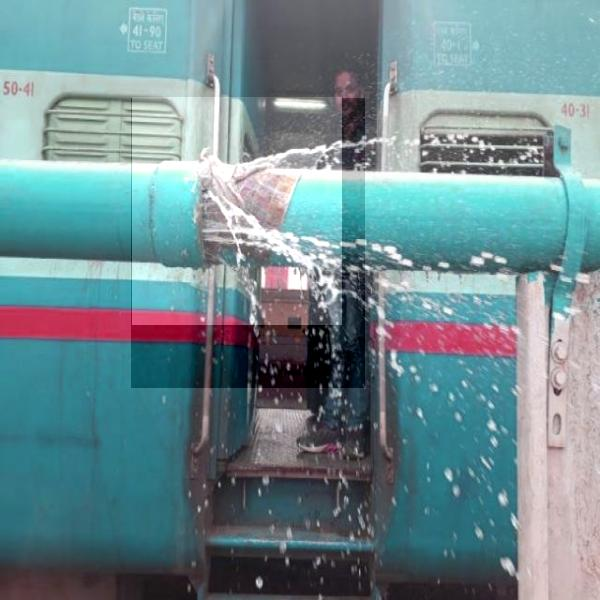leak: (132, 97, 342, 325)
no leak: (131, 98, 365, 388)
